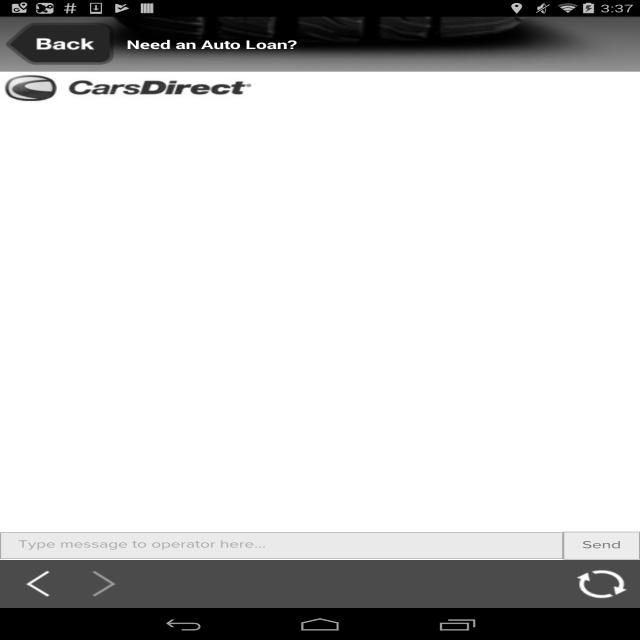Button: (554, 528, 635, 564)
ImageButton: (4, 19, 118, 67), (567, 565, 633, 602), (68, 568, 138, 600), (12, 568, 58, 602)
ImageView: (4, 74, 54, 103)
TextView: (63, 76, 253, 99), (123, 36, 303, 53)
